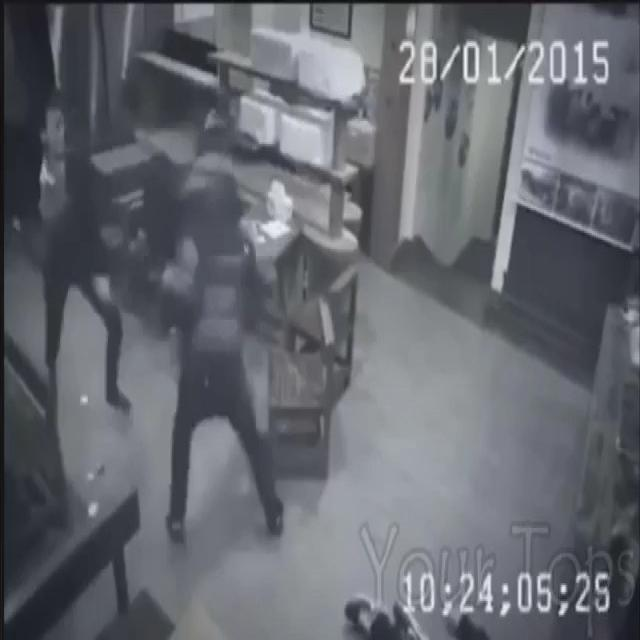fight: (16, 86, 302, 544)
